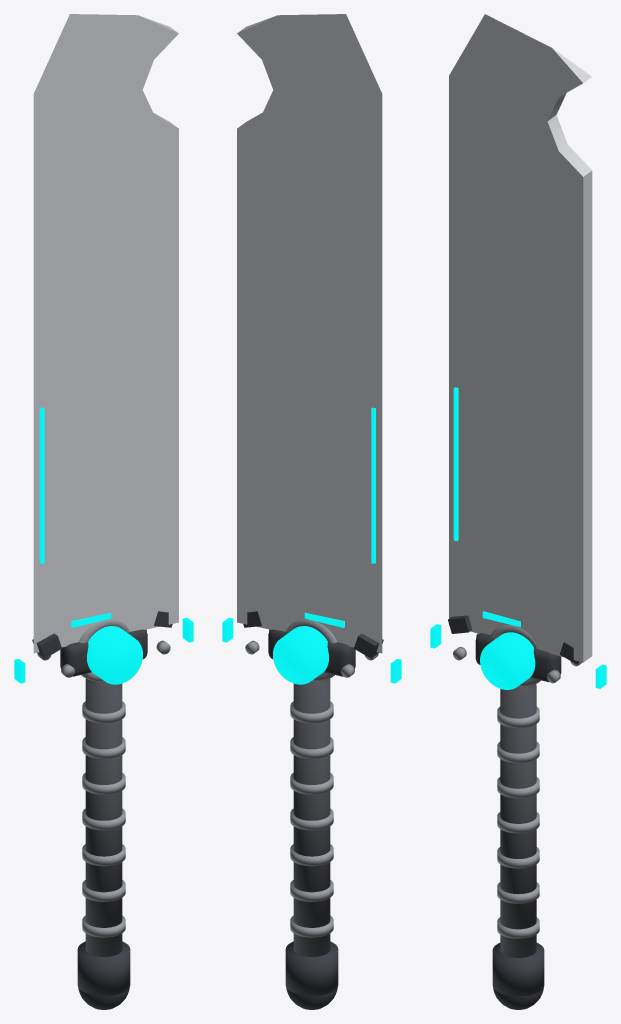
Rendered from Greatsword.fbx.
The picture shows the model from 3 angles, left to right: view 1: azimuth 30°, elevation 25°; view 2: azimuth 150°, elevation 25°; view 3: azimuth 330°, elevation 25°; orthographic projection.
Parts seen in each view (by area): view 1: GreatSword_Blade, GreatSword_Grip, GreatSword_Core, GreatSword_Pommel, GreatSword_Guard, GreatSword_EdgeGlow2, GreatSword_PommelCap, GreatSword_CoreBezel, GreatSword_GripRing_4, GreatSword_GripRing_1, GreatSword_GripRing_7, GreatSword_GripRing_5 (+3 smaller); view 2: GreatSword_Blade, GreatSword_Grip, GreatSword_Core, GreatSword_Pommel, GreatSword_Guard, GreatSword_EdgeGlow2, GreatSword_PommelCap, GreatSword_CoreBezel, GreatSword_GripRing_4, GreatSword_GripRing_1, GreatSword_GripRing_7, GreatSword_GripRing_5 (+3 smaller); view 3: GreatSword_Blade, GreatSword_Grip, GreatSword_Core, GreatSword_Pommel, GreatSword_Guard, GreatSword_EdgeGlow2, GreatSword_PommelCap, GreatSword_CoreBezel, GreatSword_GripRing_3, GreatSword_GripRing_2, GreatSword_GripRing_4, GreatSword_GripRing_5 (+3 smaller).
Part boxes in pixels (box(x1,y1,x2,y2)): GreatSword_Blade: box(33, 14, 178, 653); GreatSword_Grip: box(85, 679, 122, 956); GreatSword_Core: box(87, 626, 142, 684); GreatSword_Pommel: box(77, 941, 130, 995); GreatSword_Guard: box(60, 629, 147, 676); GreatSword_EdgeGlow2: box(39, 407, 44, 563); GreatSword_PommelCap: box(78, 988, 129, 1009); GreatSword_CoreBezel: box(78, 619, 130, 681); GreatSword_GripRing_4: box(82, 808, 125, 830); GreatSword_GripRing_1: box(82, 701, 125, 723); GreatSword_GripRing_7: box(82, 915, 125, 937); GreatSword_GripRing_5: box(82, 844, 125, 866); GreatSword_Blade: box(237, 14, 382, 653); GreatSword_Grip: box(293, 679, 330, 956); GreatSword_Core: box(273, 626, 328, 684); GreatSword_Pommel: box(285, 941, 338, 995); GreatSword_Guard: box(268, 629, 355, 676); GreatSword_EdgeGlow2: box(371, 407, 375, 563); GreatSword_PommelCap: box(286, 988, 337, 1009); GreatSword_CoreBezel: box(285, 619, 337, 681); GreatSword_GripRing_4: box(290, 808, 333, 830); GreatSword_GripRing_1: box(290, 701, 333, 723); GreatSword_GripRing_7: box(290, 915, 333, 937); GreatSword_GripRing_5: box(290, 844, 333, 866); GreatSword_Blade: box(449, 14, 592, 662); GreatSword_Grip: box(500, 684, 536, 957); GreatSword_Core: box(480, 632, 535, 689); GreatSword_Pommel: box(492, 943, 544, 996); GreatSword_Guard: box(475, 633, 561, 682); GreatSword_EdgeGlow2: box(453, 387, 458, 541); GreatSword_PommelCap: box(493, 988, 543, 1009); GreatSword_CoreBezel: box(490, 624, 540, 686); GreatSword_GripRing_3: box(497, 777, 539, 798); GreatSword_GripRing_2: box(497, 742, 539, 763); GreatSword_GripRing_4: box(497, 812, 539, 833); GreatSword_GripRing_5: box(497, 847, 539, 868).
Size of the model in its own units: 1.52 by 8.42 by 0.5.
